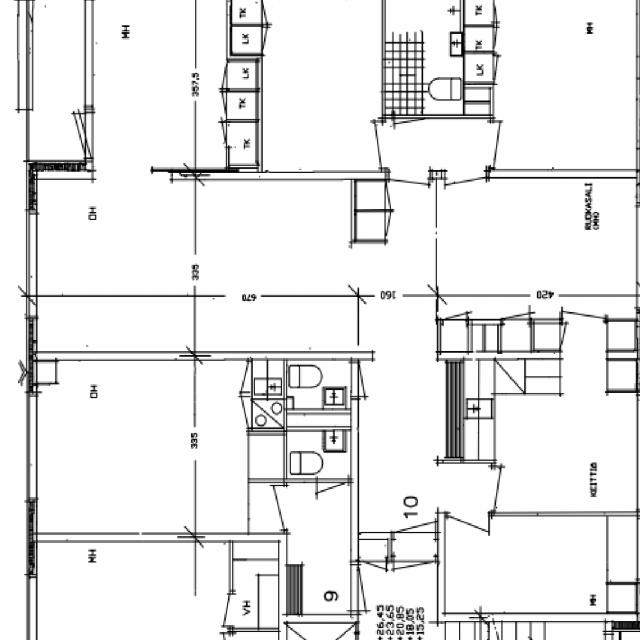door: (43, 113, 93, 159), (339, 120, 385, 168), (447, 512, 489, 562), (394, 555, 434, 607), (394, 488, 434, 540), (490, 122, 535, 166), (96, 130, 134, 179), (134, 130, 172, 179), (491, 466, 535, 508), (351, 363, 389, 397), (393, 114, 423, 150)
